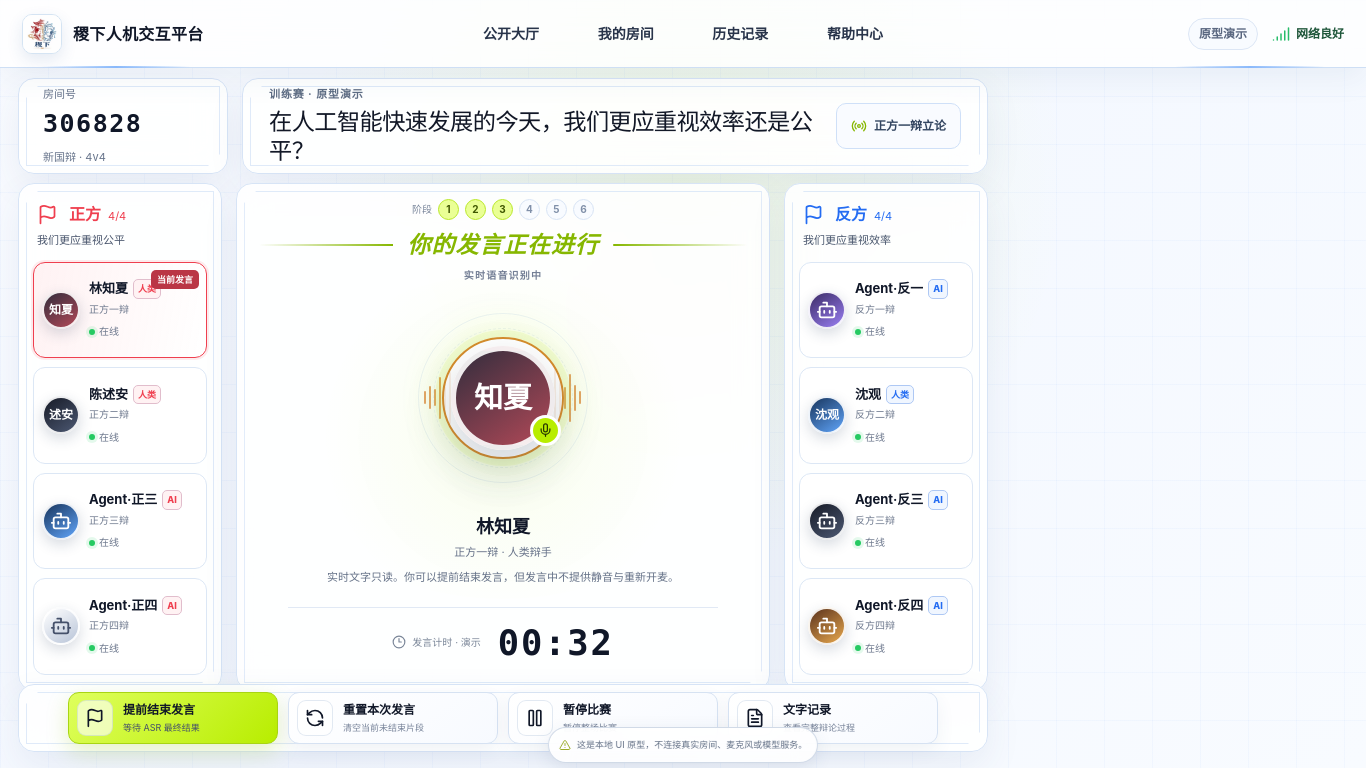
Scenario: DebatePrototype › confirms pause and displays generic recovery requirements
Click the button "暂停比赛 暂停整场比赛": (613, 718) [508,692,718,744]
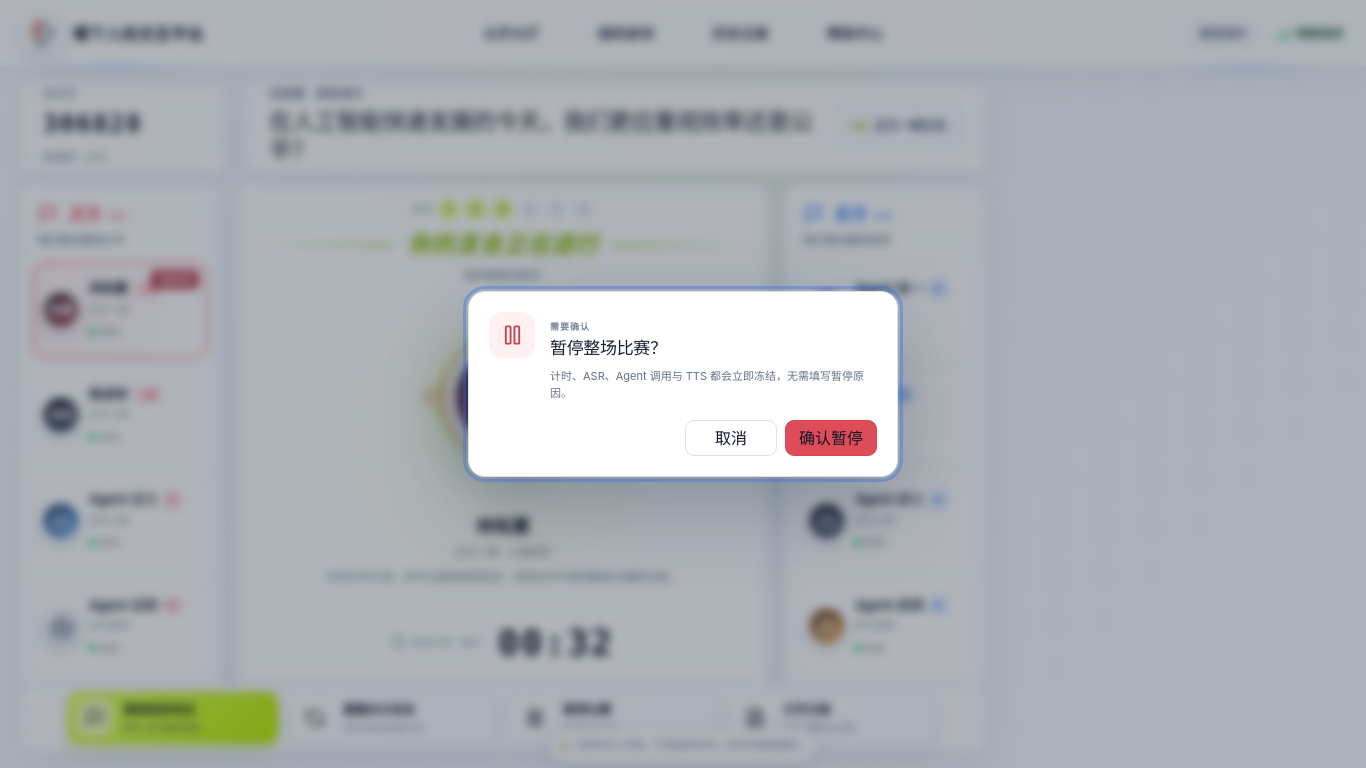
Expected: the dialog "暂停整场比赛？" is shown, [468,291,898,477]
Click the button "确认暂停": (831, 438) [785,420,877,456]
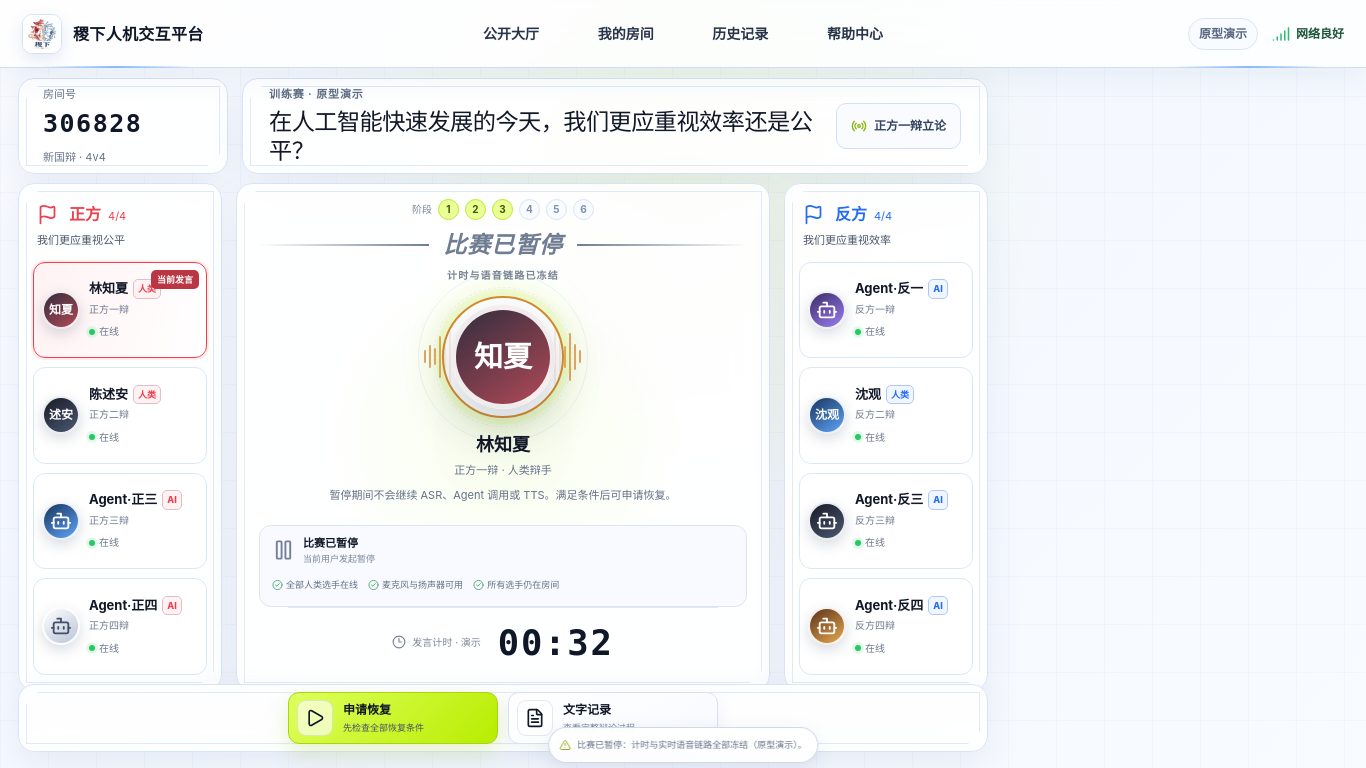
Expected: the list item "麦克风与扬声器可用" is shown, [368,573,463,597]
Expected: the button "申请恢复 先检查全部恢复条件" is shown, [288,692,498,744]
